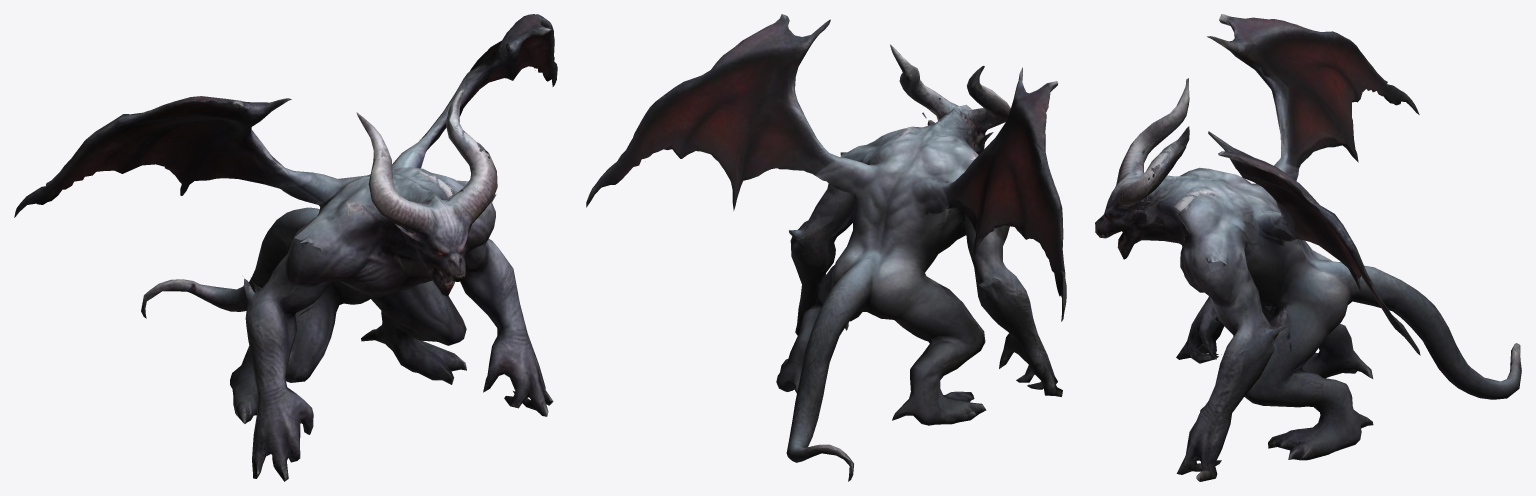
The model's file is gargoyle_demonic_lod0.glb.
The picture shows the model from 3 angles, left to right: view 1: azimuth 30°, elevation 25°; view 2: azimuth 150°, elevation 25°; view 3: azimuth 270°, elevation 25°; orthographic projection. The views are drawn at different scales.
Parts seen in each view (by area): view 1: gargoyle_demonic_lod0; view 2: gargoyle_demonic_lod0; view 3: gargoyle_demonic_lod0.
Part boxes in pixels (x1,y1,x2,y2): gargoyle_demonic_lod0: [14, 14, 557, 481]; gargoyle_demonic_lod0: [586, 14, 1066, 481]; gargoyle_demonic_lod0: [1095, 14, 1521, 481].
Size of the model in its own units: 1.49 by 0.9735 by 1.12.
1 material, 1 textured.
